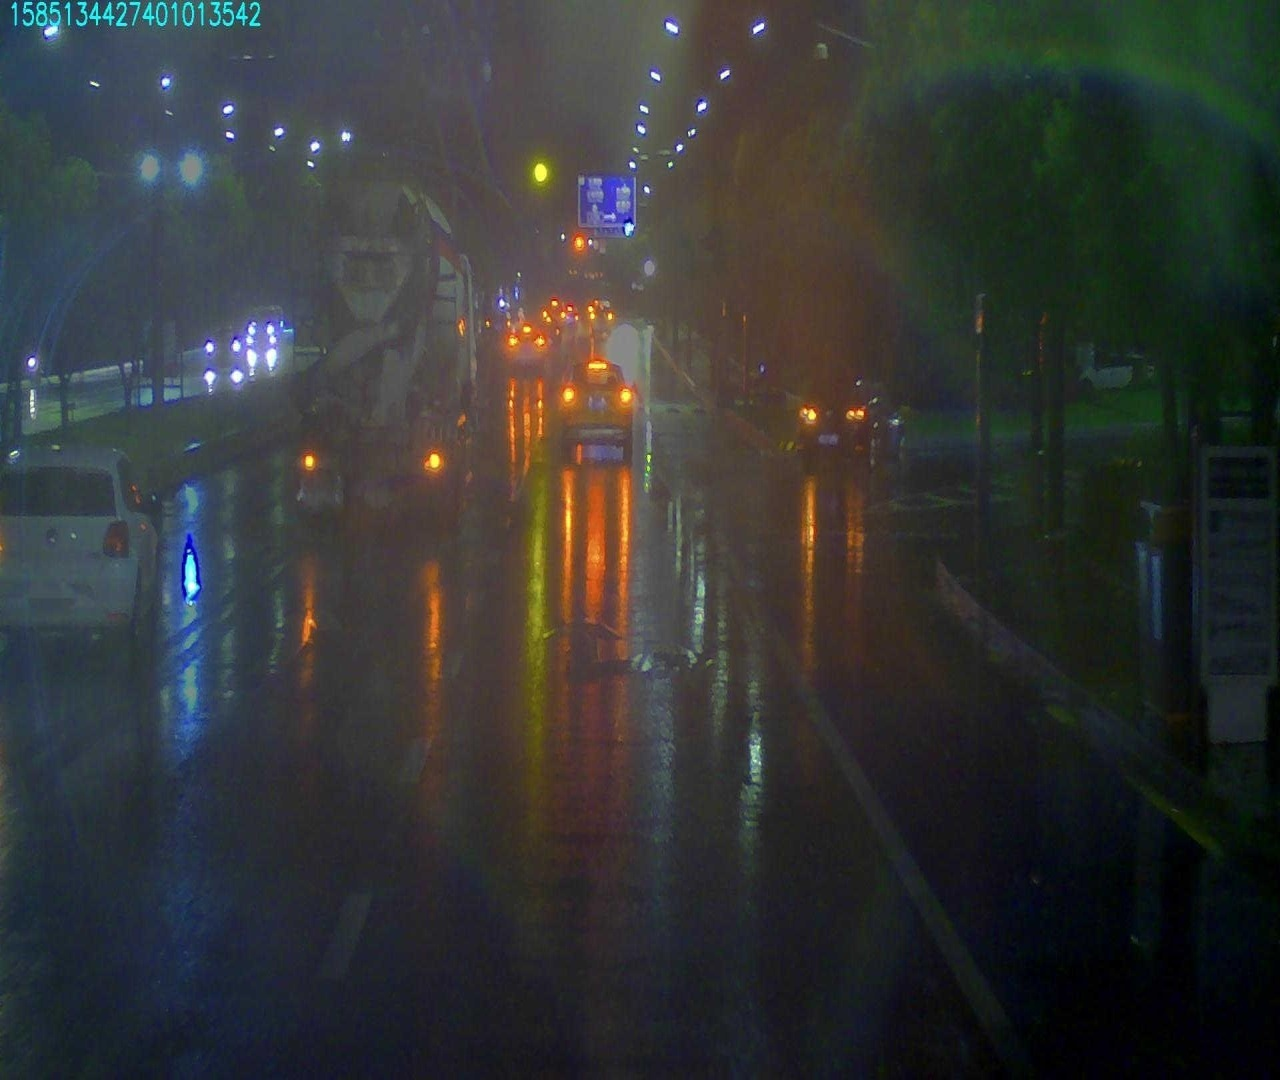yellow: (534, 157, 551, 184)
